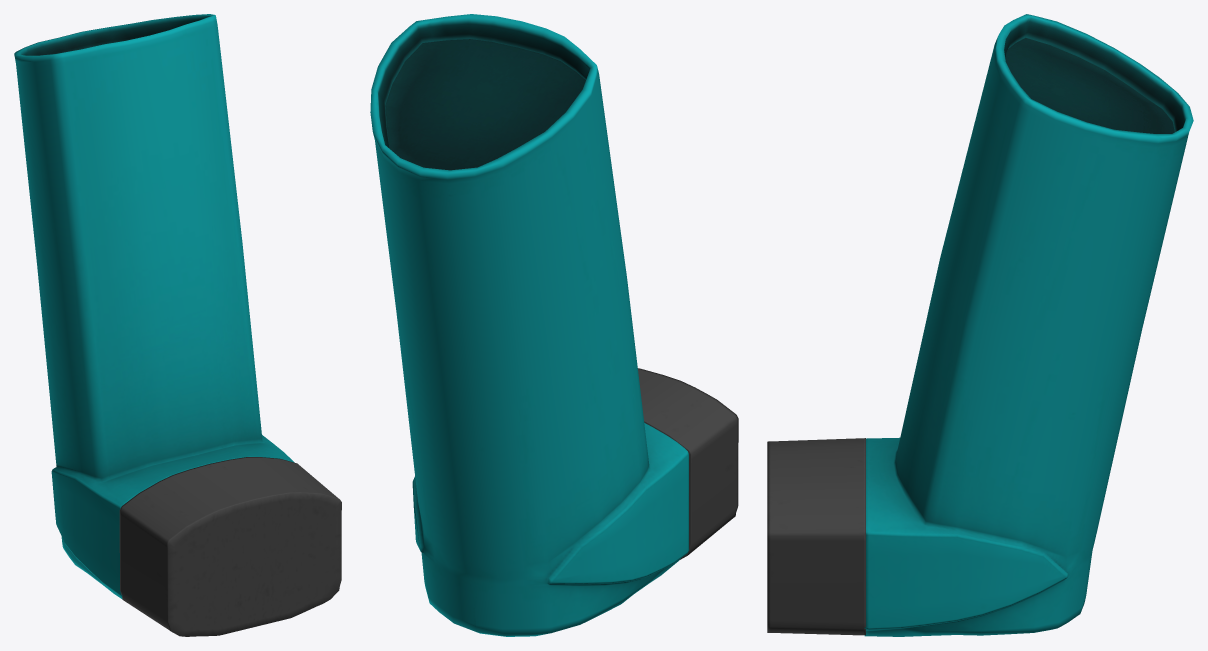
Rendered from Base Inhaler OBJ.obj.
3 views of the same model, side by side, from view 1: azimuth 30°, elevation 25°; view 2: azimuth 150°, elevation 25°; view 3: azimuth 270°, elevation 25° (orthographic). The views are drawn at different scales.
Parts seen in each view (by area): view 1: Neck.005, cap; view 2: Neck.005, cap; view 3: Neck.005, cap.
Boxes of the visible parts, x1,y1,x2,y2 form: Neck.005: (14,14,294,598); cap: (119,457,341,636); Neck.005: (370,14,689,636); cap: (638,368,738,559); Neck.005: (864,14,1193,636); cap: (767,438,865,635).
Bounding box in the file's own units: 0.0562 × 0.1497 × 0.1032.
